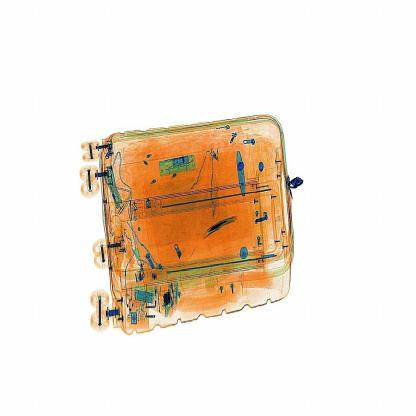wrench: (199, 215, 245, 234)
